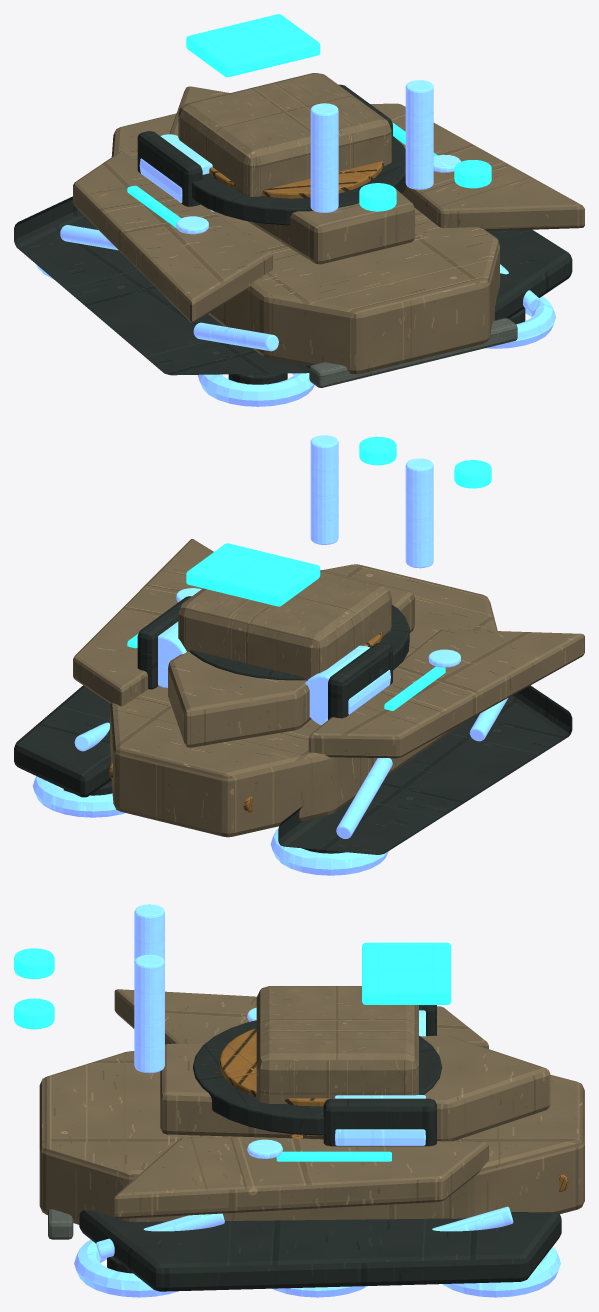
The model's file is lumen_lancer.glb.
3 views of the same model, one above another, from view 1: azimuth 30°, elevation 25°; view 2: azimuth 150°, elevation 25°; view 3: azimuth 270°, elevation 25° (orthographic). The views are drawn at different scales.
Parts seen in each view (by area): view 1: Faction detail · Vehicle / armor_light.012, Prisma · swept faceted hover hull, Faction detail · Vehicle / dark.012, Raised armored traversing turret, Faction detail · Vehicle / energy.006, TeamColor, Independent traverse race, Twin photon lance.001, Twin photon lance, Forward aerodynamic splitter, TeamColor flank details, Indexed azimuth bearing (+1 smaller); view 2: Faction detail · Vehicle / armor_light.012, Prisma · swept faceted hover hull, Faction detail · Vehicle / dark.012, Raised armored traversing turret, Faction detail · Vehicle / energy.006, TeamColor, Twin photon lance, Twin photon lance.001, Independent traverse race, TeamColor flank details, TeamColor flank details.001; view 3: Faction detail · Vehicle / armor_light.012, Faction detail · Vehicle / dark.012, Prisma · swept faceted hover hull, Raised armored traversing turret, Faction detail · Vehicle / energy.006, Independent traverse race, TeamColor, Twin photon lance.001, TeamColor flank details, Indexed azimuth bearing, Twin photon lance, TeamColor flank details.001 (+1 smaller).
Part boxes in pixels (<box>): Faction detail · Vehicle / armor_light.012: <box>73,86,584,322</box>; Prisma · swept faceted hover hull: <box>111,113,499,374</box>; Faction detail · Vehicle / dark.012: <box>14,84,572,384</box>; Raised armored traversing turret: <box>178,73,391,196</box>; Faction detail · Vehicle / energy.006: <box>36,134,556,406</box>; TeamColor: <box>186,14,320,77</box>; Independent traverse race: <box>192,135,406,225</box>; Twin photon lance.001: <box>405,80,433,189</box>; Twin photon lance: <box>310,103,338,212</box>; Forward aerodynamic splitter: <box>309,318,517,387</box>; TeamColor flank details: <box>359,160,491,211</box>; Indexed azimuth bearing: <box>209,161,383,198</box>; Faction detail · Vehicle / armor_light.012: <box>73,539,584,758</box>; Prisma · swept faceted hover hull: <box>110,564,497,837</box>; Faction detail · Vehicle / dark.012: <box>14,596,572,854</box>; Raised armored traversing turret: <box>178,571,391,680</box>; Faction detail · Vehicle / energy.006: <box>33,588,507,875</box>; TeamColor: <box>186,543,320,606</box>; Twin photon lance: <box>405,458,433,568</box>; Twin photon lance.001: <box>310,435,338,544</box>; Independent traverse race: <box>190,604,409,680</box>; TeamColor flank details: <box>359,436,491,488</box>; TeamColor flank details.001: <box>127,633,445,710</box>; Faction detail · Vehicle / armor_light.012: <box>114,989,550,1218</box>; Faction detail · Vehicle / dark.012: <box>79,1005,561,1291</box>; Prisma · swept faceted hover hull: <box>39,1051,584,1224</box>; Raised armored traversing turret: <box>256,986,418,1103</box>; Faction detail · Vehicle / energy.006: <box>74,1007,560,1297</box>; Independent traverse race: <box>193,1020,442,1135</box>; TeamColor: <box>362,942,451,1004</box>; Twin photon lance.001: <box>134,954,164,1073</box>; TeamColor flank details: <box>14,948,54,1029</box>; Indexed azimuth bearing: <box>219,1028,334,1106</box>; Twin photon lance: <box>134,904,164,961</box>; TeamColor flank details.001: <box>276,1151,391,1161</box>.
Bounding box in the file's own units: 3.01 × 1.86 × 3.37.
9 materials, 9 textured.
